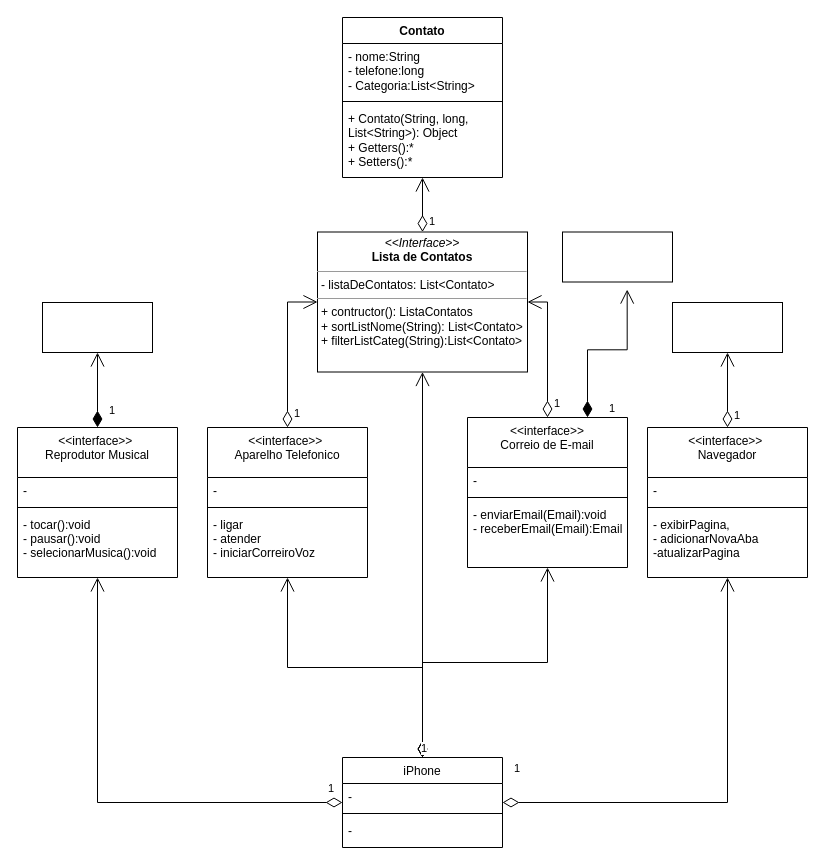
Some shapes in this 825 by 865 pixel diagram are drawn without their labels. The shapes that lost their labels are listed below. From the top down, each one's box as (x1, y1, x2, y2) in pixels, then its label:
(562, 231, 672, 282): E-mail
(42, 302, 152, 352): Musica
(672, 302, 782, 352): PáginasWeb
